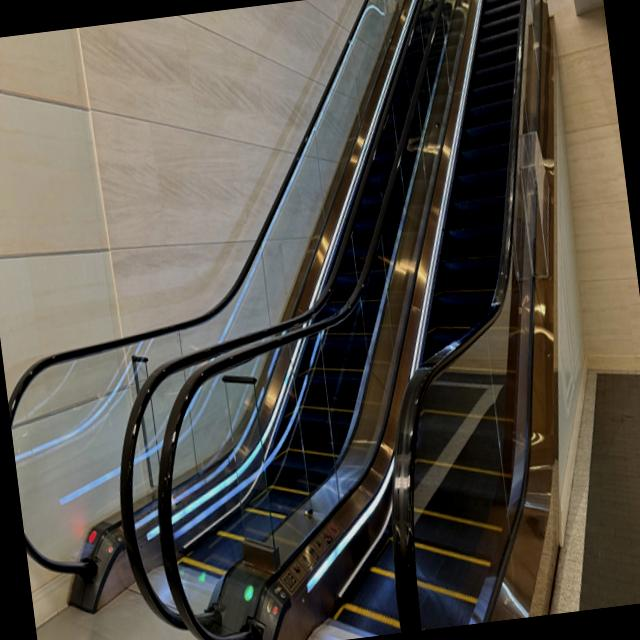escalator: (6, 0, 427, 640), (147, 0, 552, 640)
